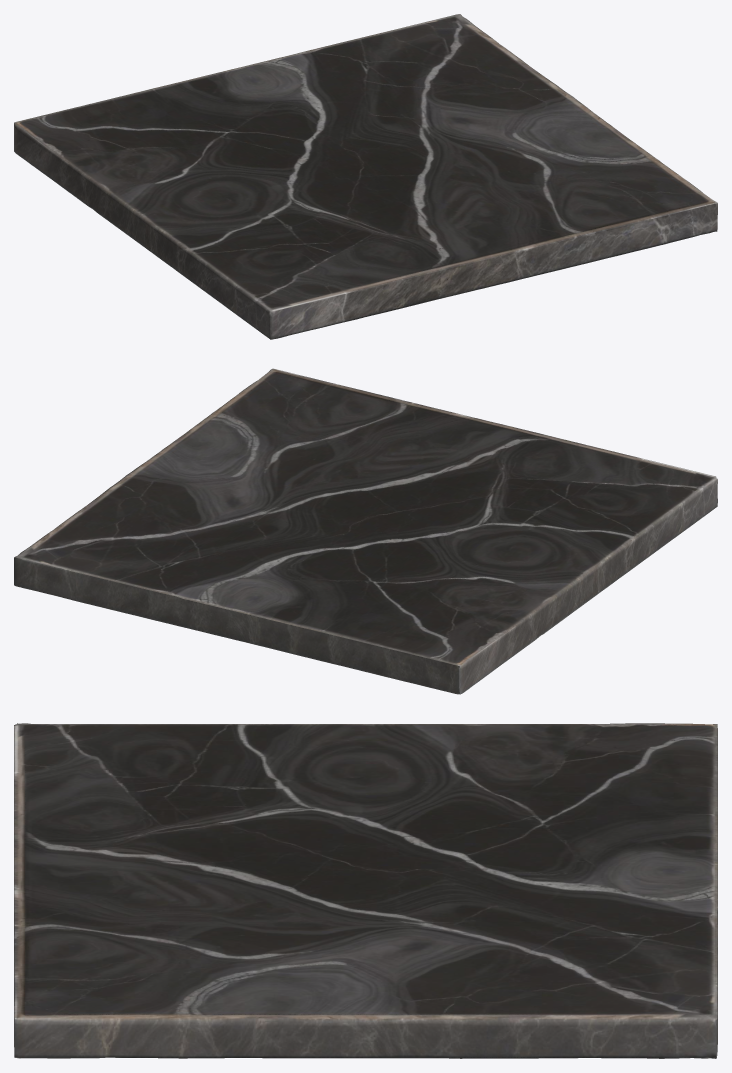
The model's file is Meshy_AI_Obsidian_floor_tile_0221024549_texture.glb.
The picture shows the model from 3 angles, top to bottom: view 1: azimuth 30°, elevation 25°; view 2: azimuth 150°, elevation 25°; view 3: azimuth 270°, elevation 25°; orthographic projection. The views are drawn at different scales.
Visible parts, largest first — view 1: Mesh0; view 2: Mesh0; view 3: Mesh0.
Boxes of the visible parts, x1,y1,x2,y2 form: Mesh0: [14, 14, 717, 339]; Mesh0: [14, 368, 717, 694]; Mesh0: [14, 723, 717, 1058].
Bounding box in the file's own units: 1.99 × 0.127 × 2.
1 material, 1 textured.
